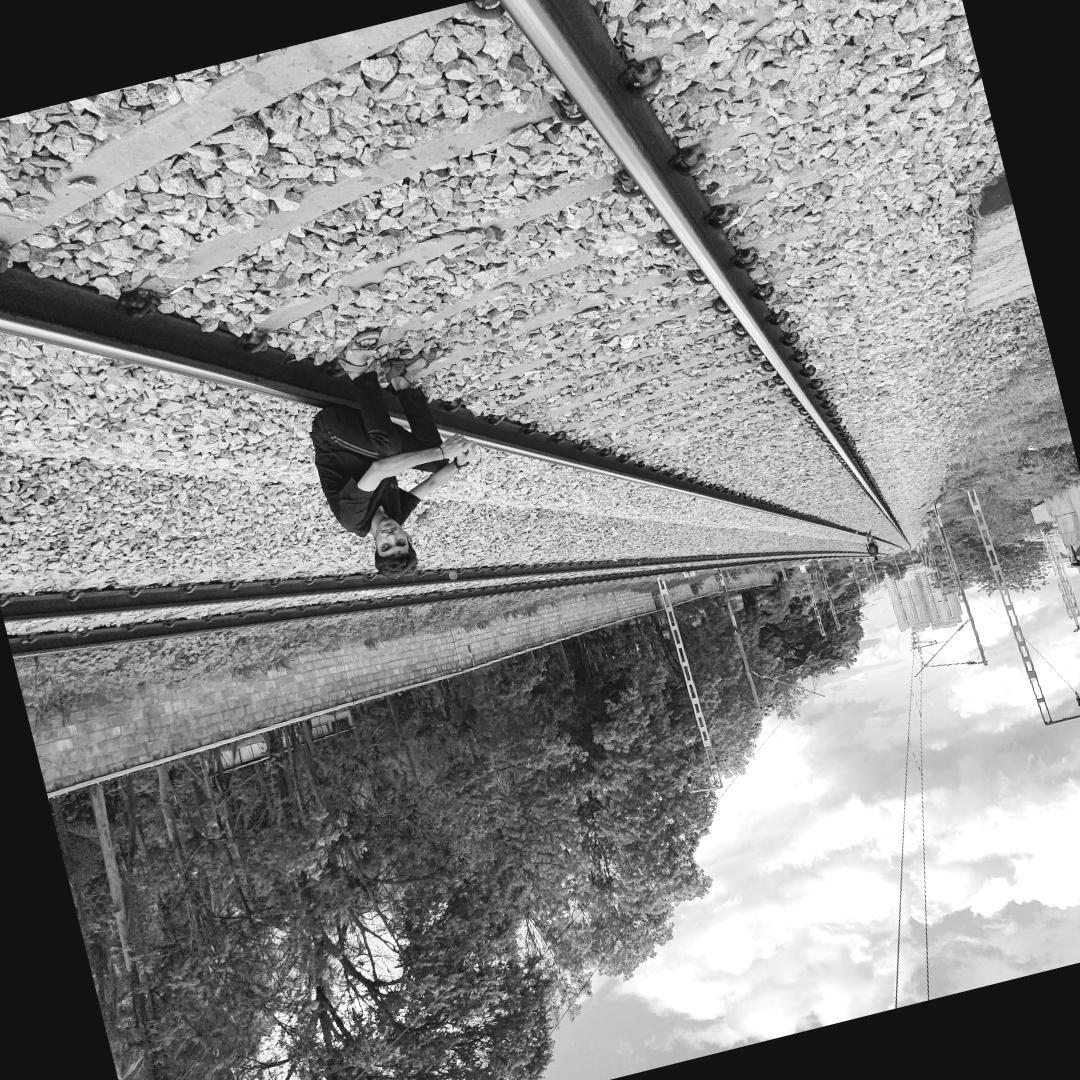sitting: (276, 300, 516, 612)
